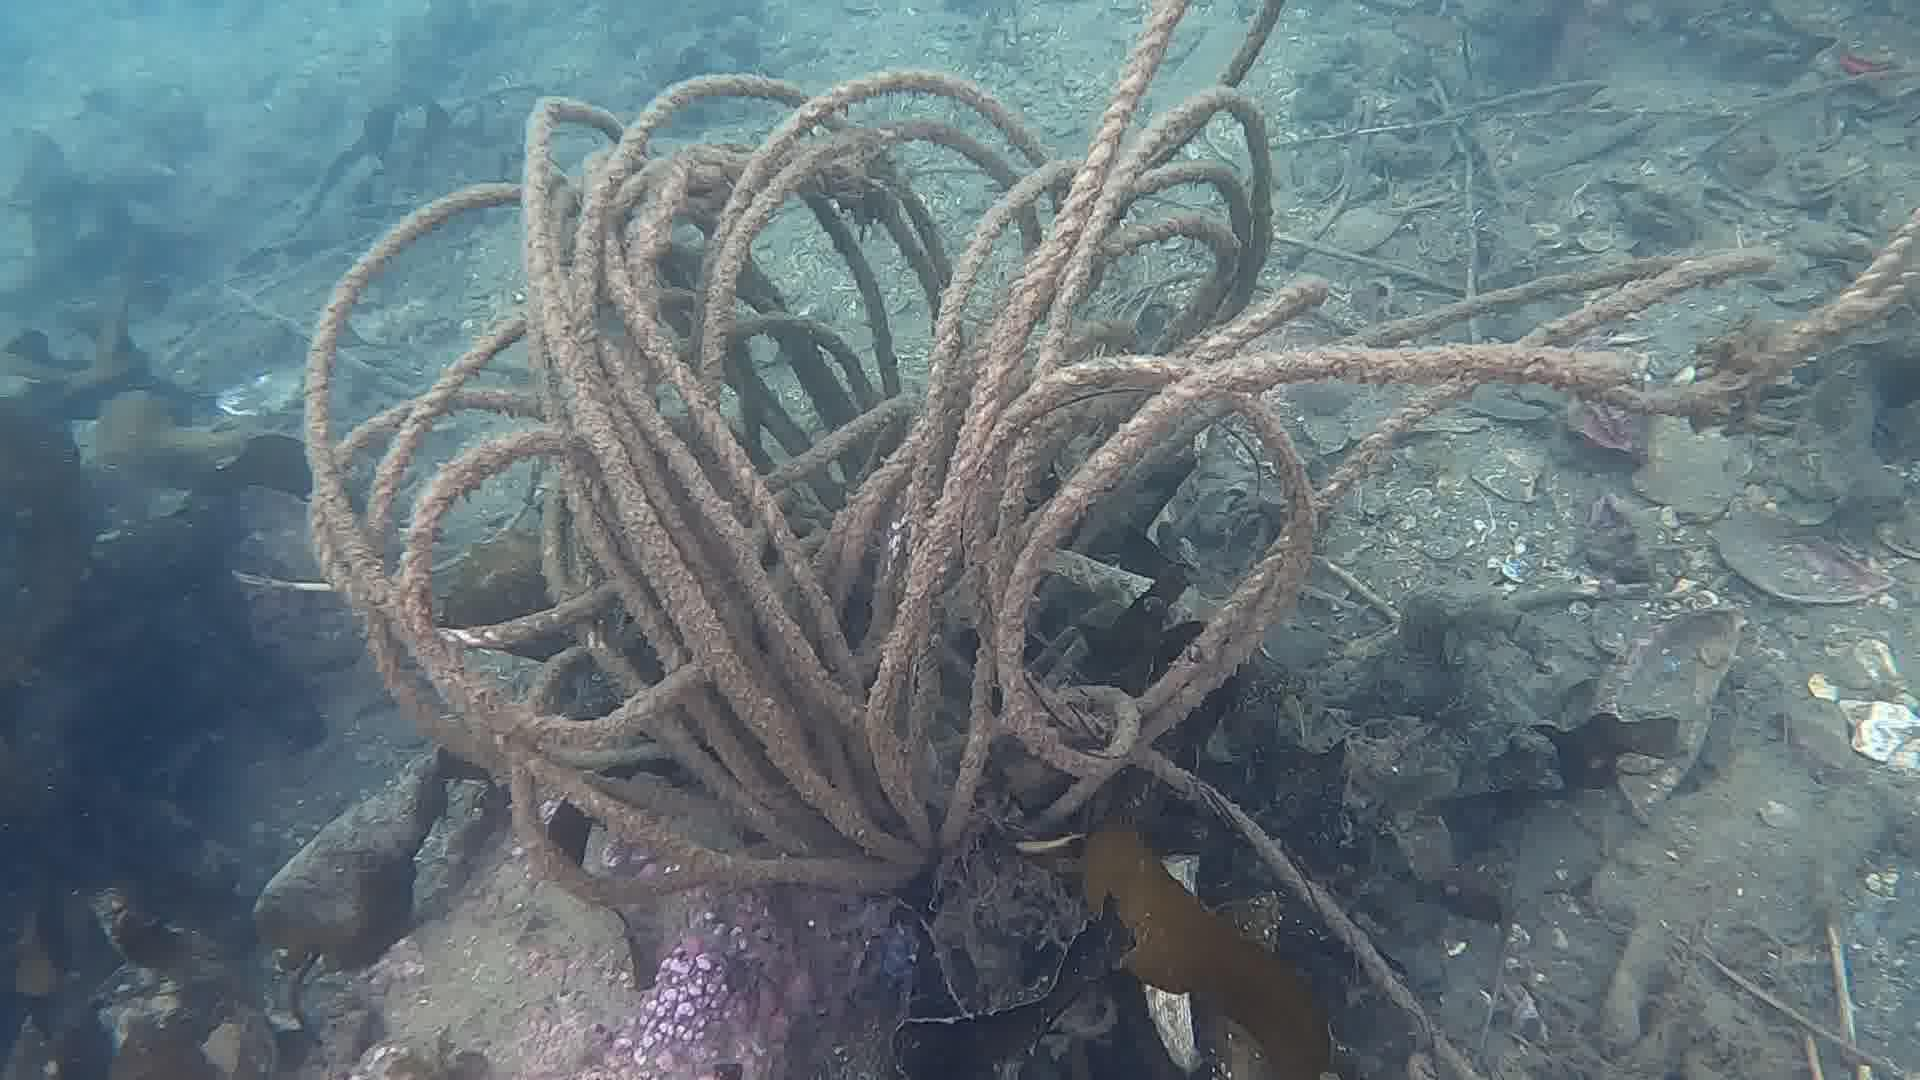bundle of ropes: (299, 0, 1920, 1080)
